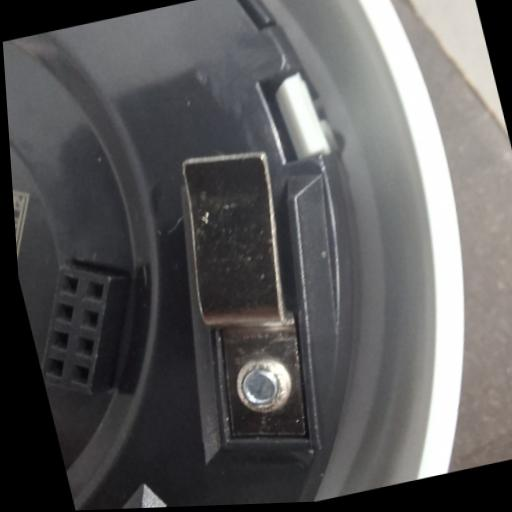yaysiz: (157, 142, 336, 457)
